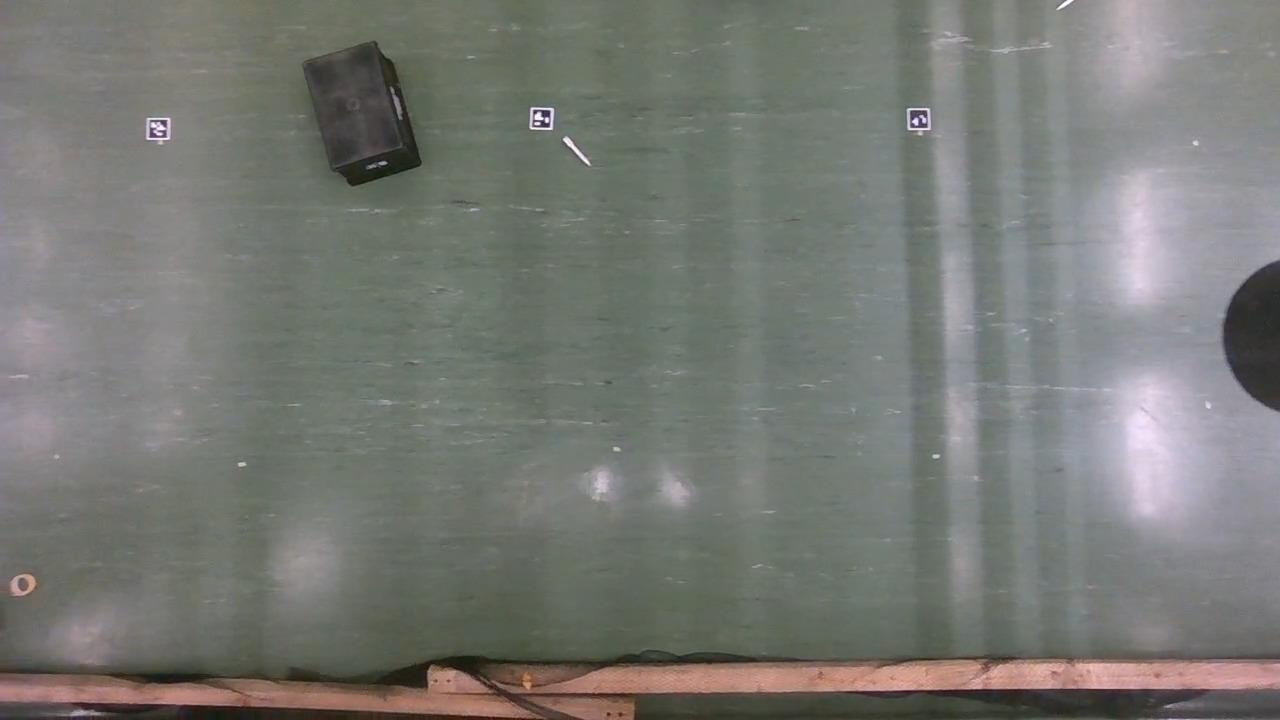probes: (565, 138, 590, 167)
rako: (304, 44, 421, 189)
